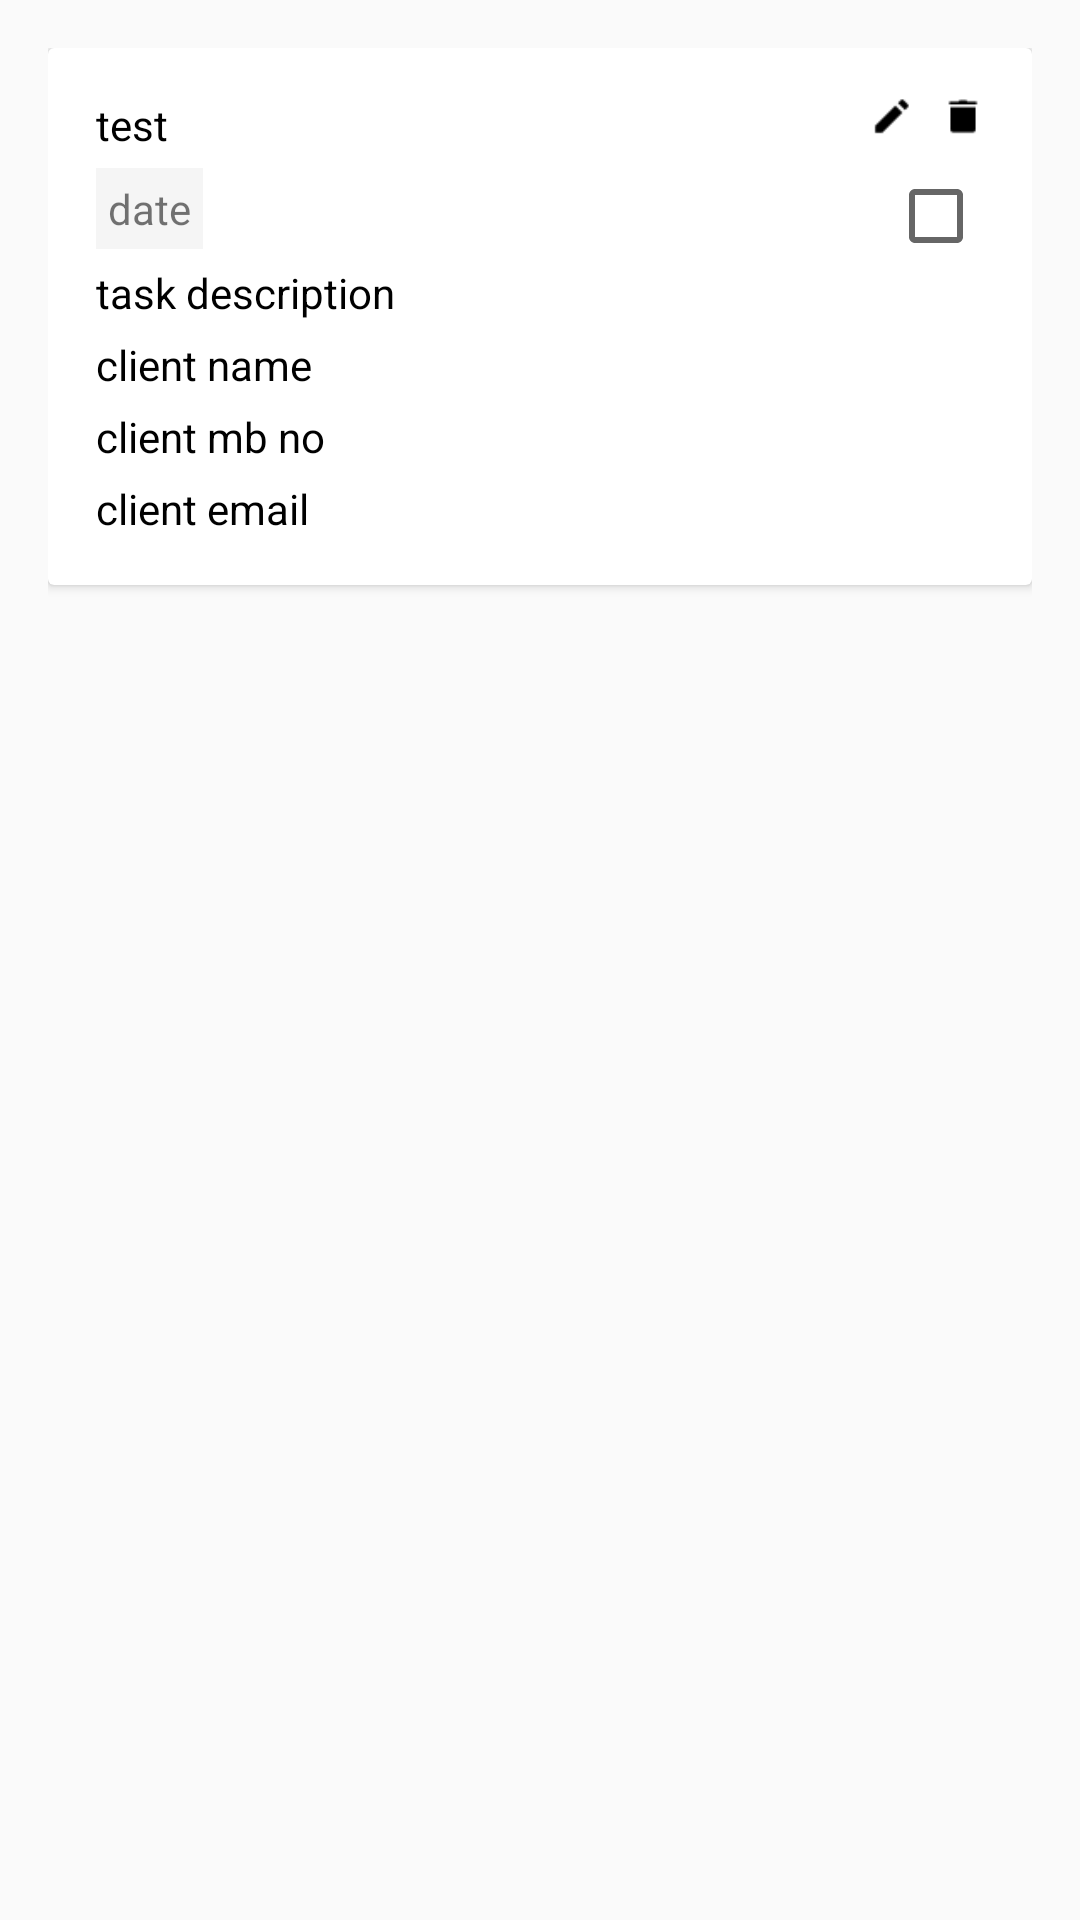

Where to tap for icons on this 1080px x 1920px app screen, as [x,y]:
edit: [891,116]
trash: [963,116]
